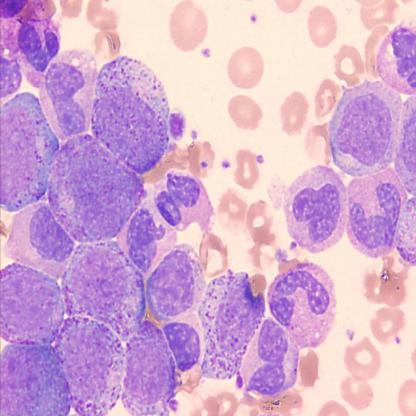Myelocyte: (48, 132, 146, 243), (92, 49, 172, 173), (61, 237, 149, 343), (197, 269, 267, 383), (56, 314, 128, 415), (329, 79, 402, 175)
